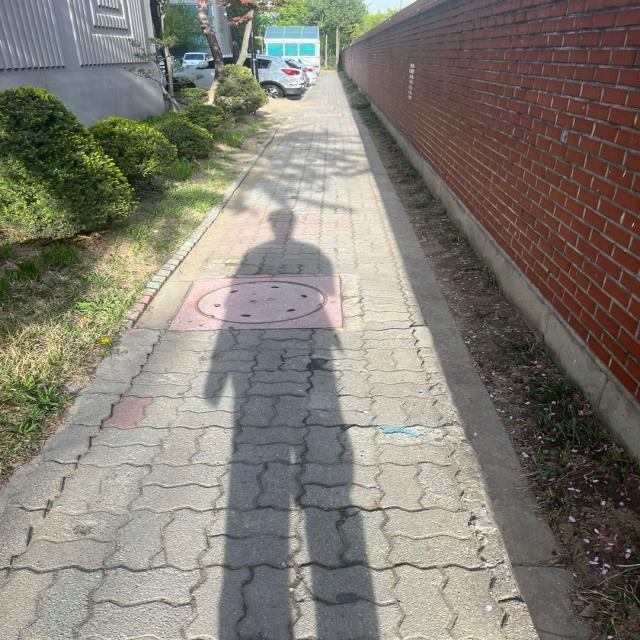manhole: (170, 275, 342, 331)
